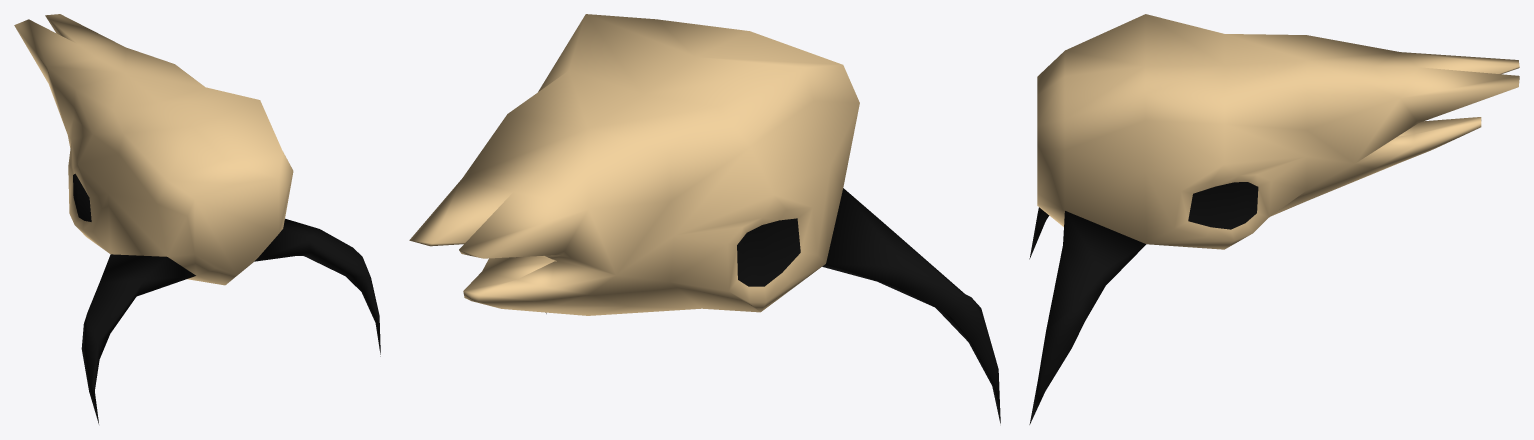
Rendered from head.FBX.
3 renders of one model, left to right at view 1: azimuth 30°, elevation 25°; view 2: azimuth 150°, elevation 25°; view 3: azimuth 270°, elevation 25°, orthographic. The views are drawn at different scales.
Parts seen in each view (by area): view 1: Box004; view 2: Box004; view 3: Box004.
Part boxes in pixels (x1,y1,x2,y2): Box004: (14, 14, 380, 423); Box004: (409, 14, 1000, 423); Box004: (1029, 14, 1519, 424).
Bounding box in the file's own units: 74.72 × 59.25 × 91.1.
